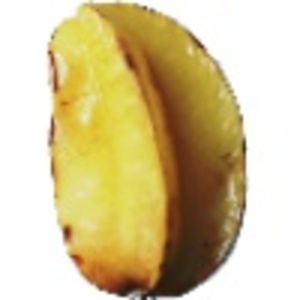carambola: (46, 1, 249, 300)
